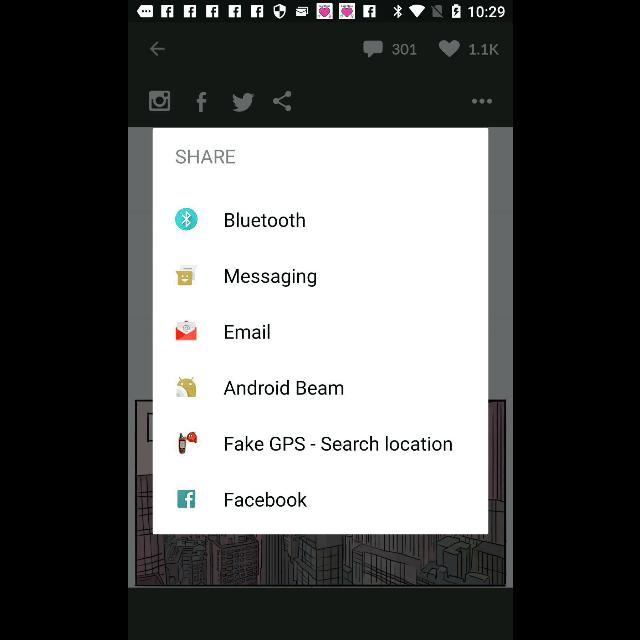icon: (148, 90, 170, 112), (175, 208, 197, 230), (230, 94, 253, 112), (272, 91, 290, 111), (438, 41, 459, 58), (362, 42, 382, 58), (178, 490, 195, 508), (196, 92, 206, 112), (150, 42, 164, 56), (471, 98, 491, 104)
image: (174, 265, 196, 285), (176, 321, 197, 341), (178, 432, 196, 454), (177, 378, 196, 397)
panel: (152, 128, 488, 534)
text: (224, 436, 452, 452), (224, 269, 316, 287), (224, 381, 342, 395), (224, 212, 304, 228), (224, 492, 306, 506), (176, 150, 234, 164), (225, 324, 269, 340), (468, 44, 498, 56), (391, 44, 415, 54)
uppertaskbar: (128, 1, 512, 23)
